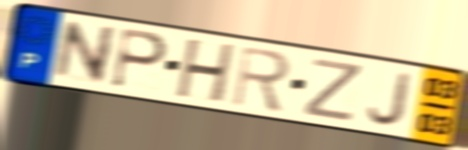H: (172, 37, 239, 106)
J: (365, 70, 416, 128)
N: (50, 19, 120, 87)
P: (108, 25, 171, 92)
R: (229, 44, 293, 115)
Z: (300, 56, 367, 125)
